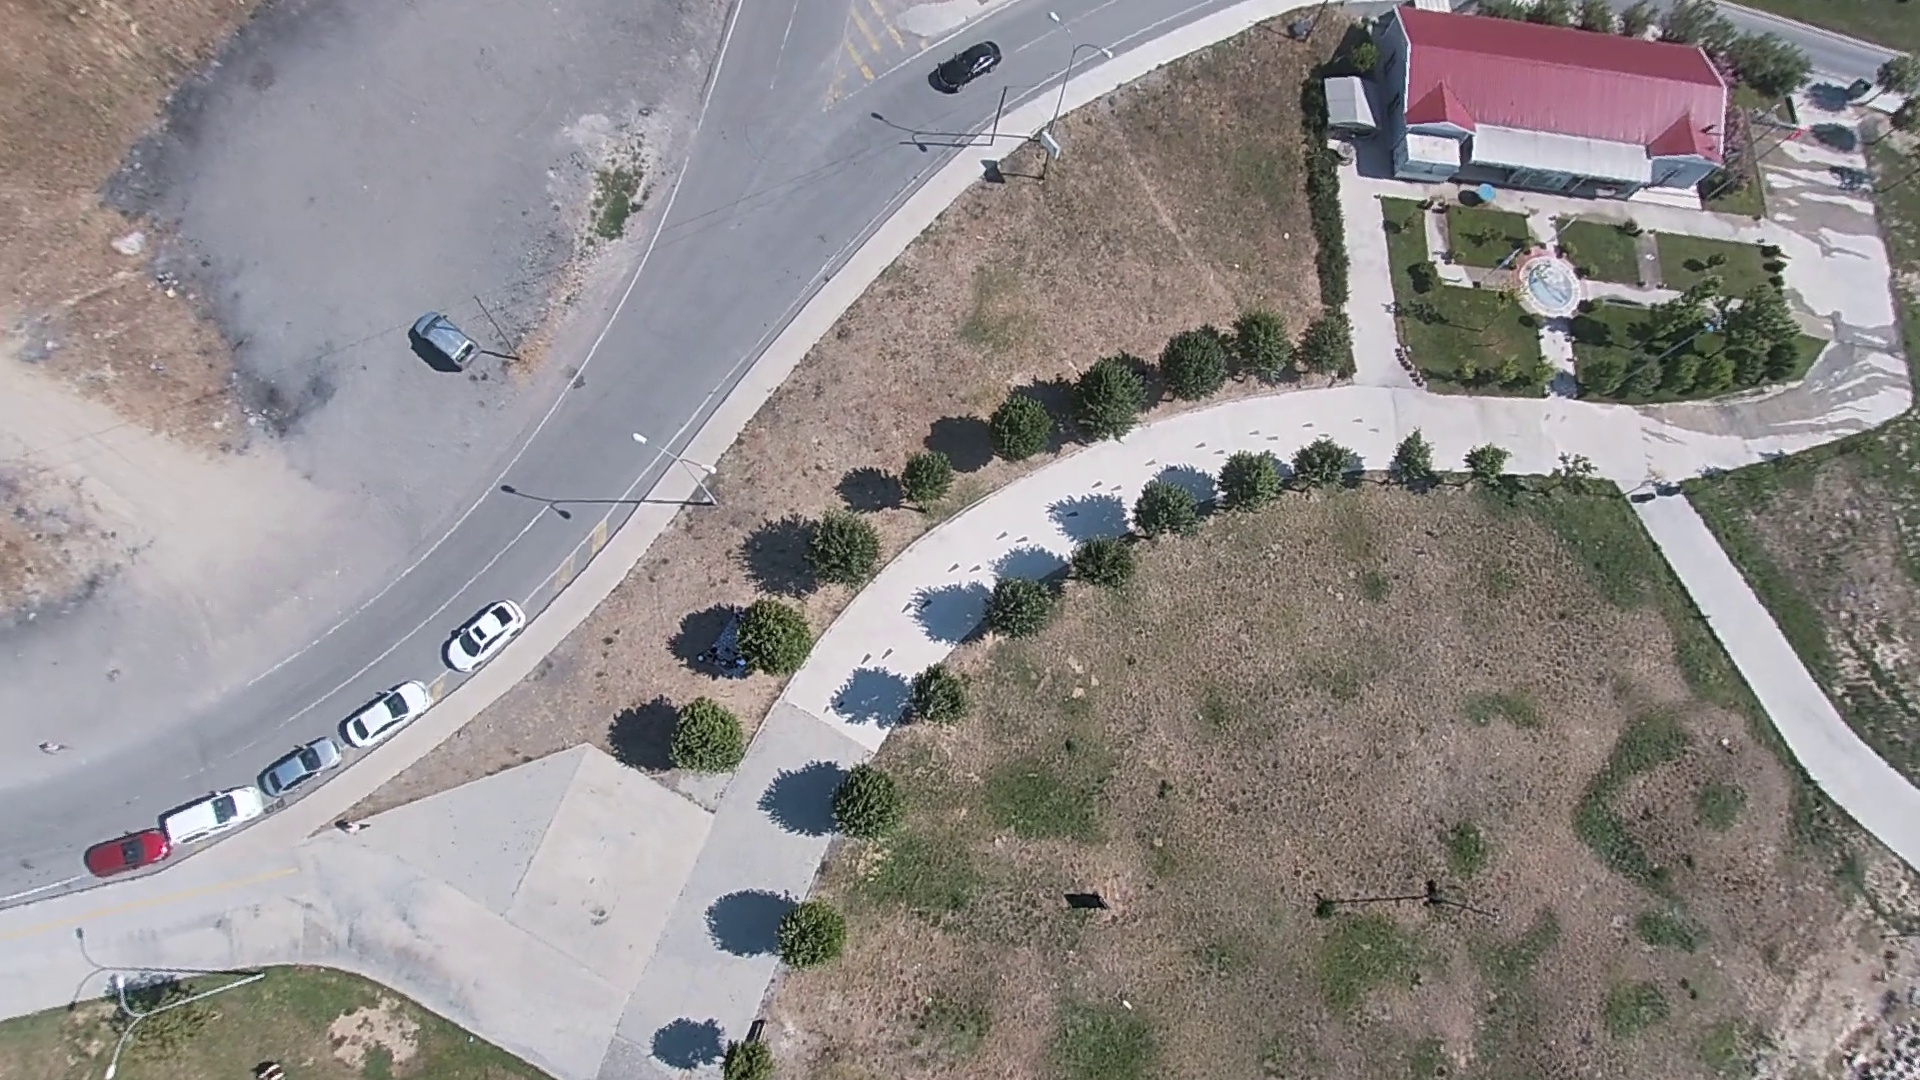arac: (160, 775, 262, 851), (80, 810, 171, 887), (257, 727, 345, 800), (349, 680, 438, 750), (439, 597, 520, 665), (402, 306, 477, 369), (931, 37, 1007, 90)
